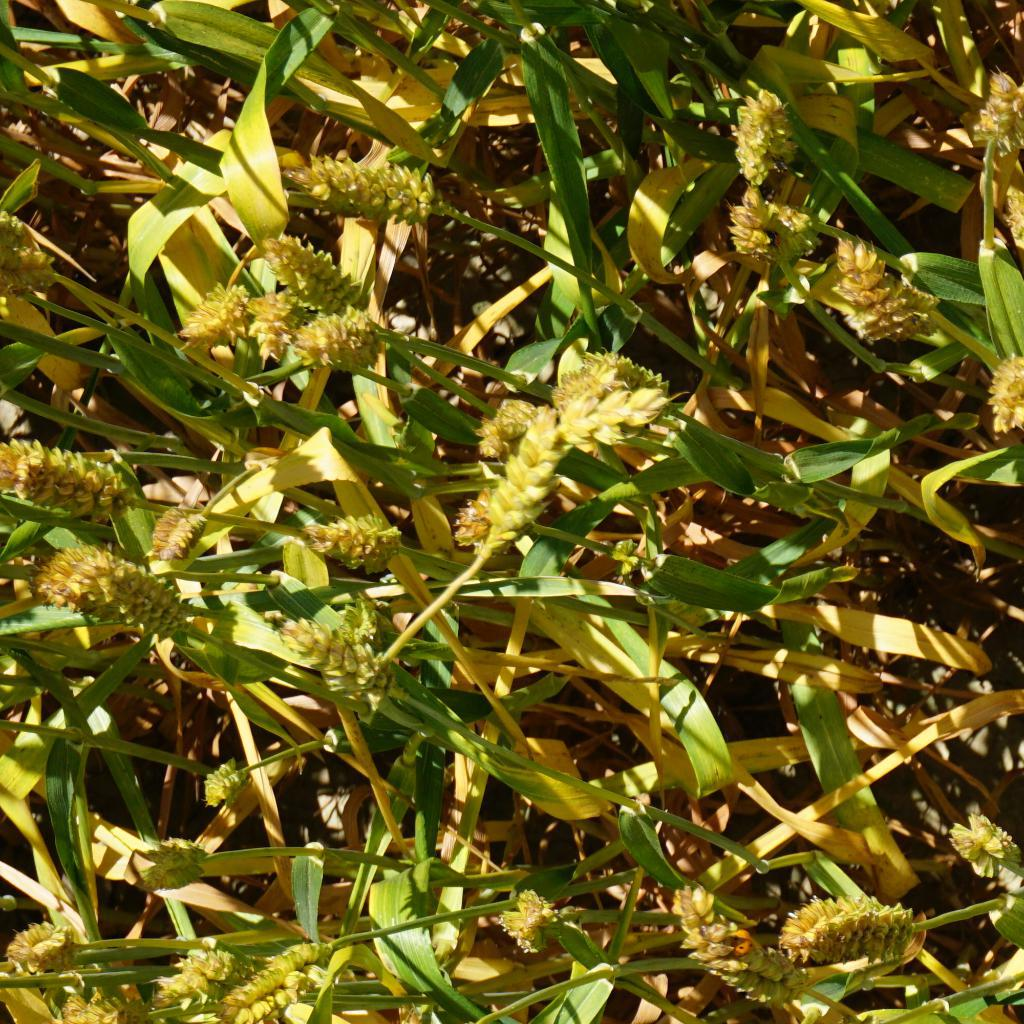0-0: (667, 876, 814, 1014), (477, 398, 606, 540), (804, 228, 954, 350), (45, 553, 203, 643), (266, 602, 396, 710), (260, 148, 439, 224), (214, 941, 340, 1024), (558, 342, 678, 424), (715, 73, 804, 179), (785, 881, 915, 953), (295, 504, 418, 574), (316, 591, 392, 698), (259, 241, 364, 314), (730, 198, 828, 270), (0, 215, 79, 296), (4, 454, 115, 504), (289, 311, 382, 370), (139, 494, 216, 565), (1, 913, 86, 977), (950, 809, 1024, 881), (156, 945, 235, 1009), (136, 833, 212, 898), (6, 993, 159, 1024), (176, 278, 236, 352), (491, 889, 560, 951), (971, 84, 1024, 156), (980, 350, 1024, 435), (436, 483, 495, 546), (239, 289, 286, 367), (473, 393, 536, 448), (197, 751, 256, 808), (598, 534, 646, 580), (382, 1000, 449, 1024), (1007, 183, 1024, 254)
